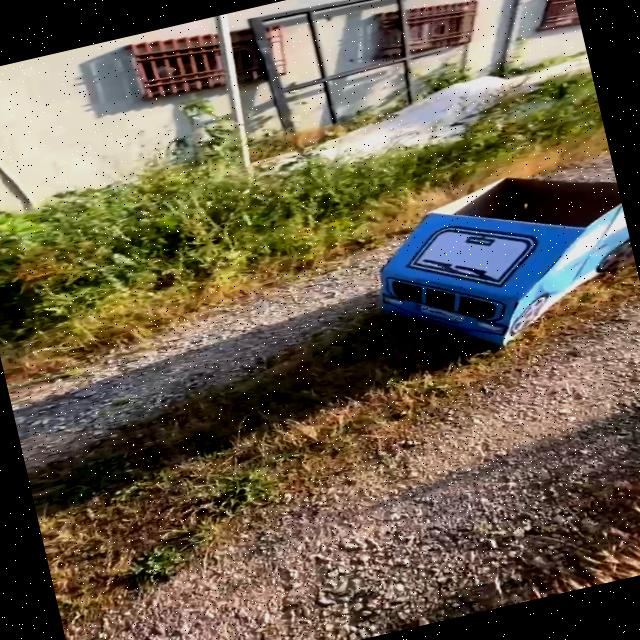blue_car: (271, 136, 640, 393)
